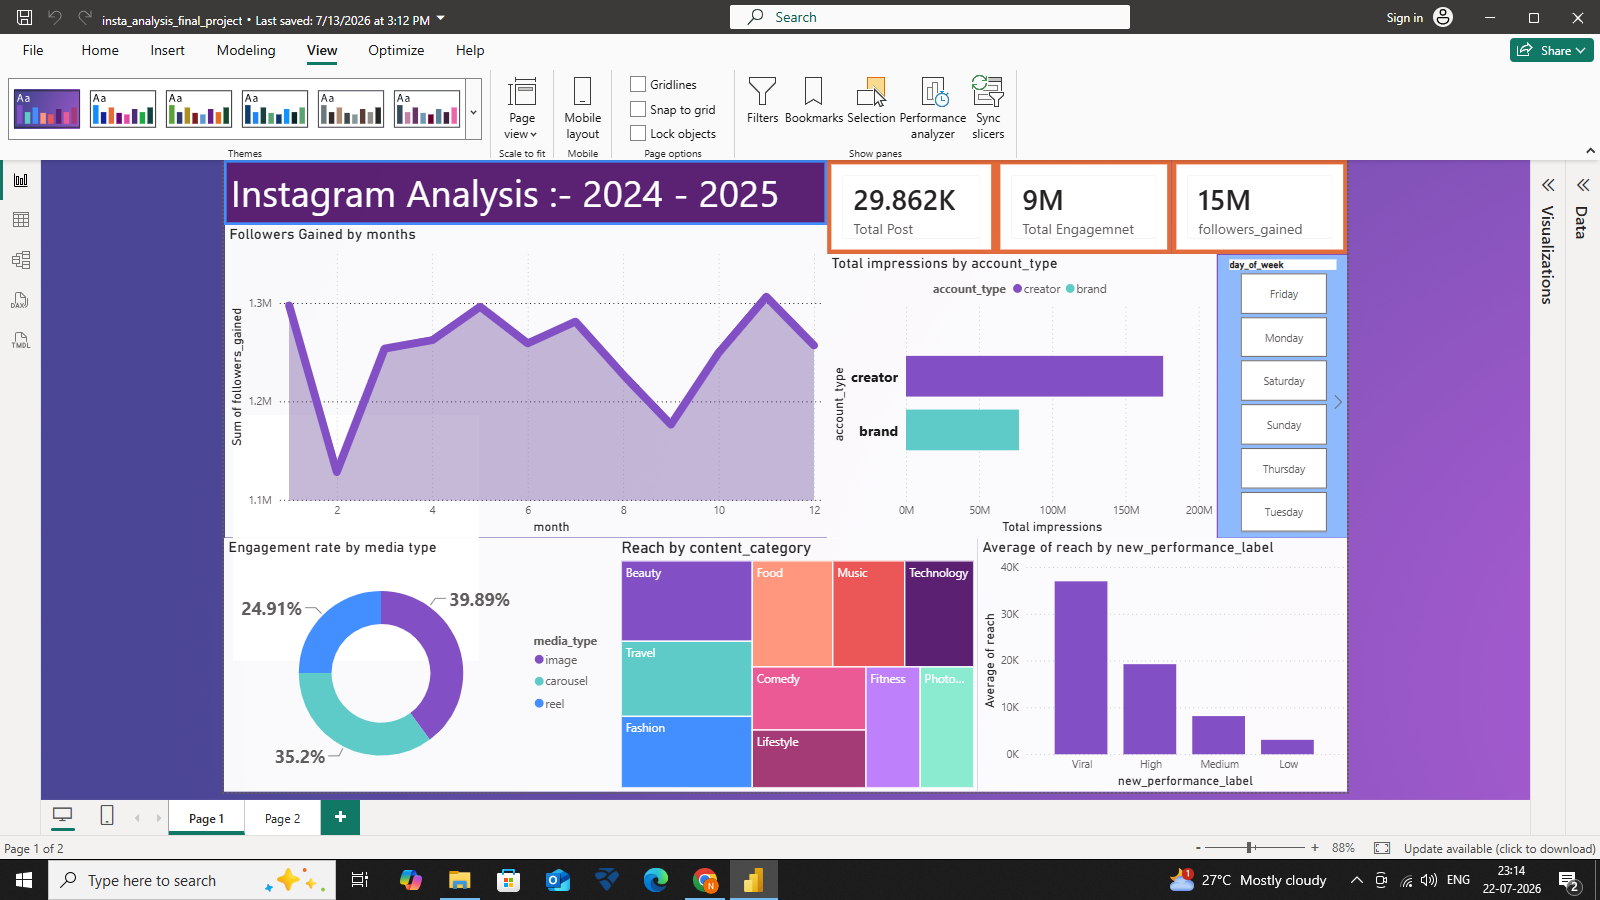

The page's visual inventory and layout, read from the dashboard file:
{"tool":"powerbi","page":{"name":"Page 1","canvas":[1280,720],"ordinal":0},"visuals":[{"type":"textbox","box":[0,0,687.3,74.4],"z":0},{"type":"textbox","box":[10,290,280,280],"z":1000},{"type":"cardVisual","fields":{"Data":["CountNonNull(insta_analysis_cleaned_data.post_id)"]},"box":[686.5,0,192.6,107.3],"z":2000},{"type":"cardVisual","fields":{"Data":["Sum(insta_analysis_cleaned_data.New Total Engagemnet)"]},"box":[879.2,0,200.4,107.3],"z":3000},{"type":"cardVisual","fields":{"Data":["Sum(insta_analysis_cleaned_data_monthly_gained follower.followers)"]},"box":[1079.6,0,200.4,107.3],"z":4000},{"type":"stackedAreaChart","title":" Followers Gained by months","fields":{"Category":["insta_analysis_cleaned_data_monthly_gained follower.months"],"Y":["Sum(insta_analysis_cleaned_data.followers_gained)"]},"box":[1.3,74.1,686.1,356.1],"z":5000},{"type":"barChart","title":"Total impressions by account_type","fields":{"Category":["insta_analysis_cleaned_data.account_type"],"Y":["Sum(insta_analysis_cleaned_data.impressions)"],"Series":["insta_analysis_cleaned_data.account_type"]},"box":[687.4,106.6,444.4,323.6],"z":6000},{"type":"donutChart","title":"Engagement rate by media type ","fields":{"Category":["insta_analysis_cleaned_data.media_type"],"Series":["insta_analysis_cleaned_data.media_type"],"Y":["Sum(insta_analysis_cleaned_data.engagement_rate)"]},"box":[0,430.6,447.7,289.4],"z":7000},{"type":"treemap","title":"Reach by content_category","fields":{"Group":["insta_analysis_cleaned_data.content_category"],"Values":["Max(insta_analysis_cleaned_data.reach)"]},"box":[447.7,430.6,411.3,289.4],"z":8000},{"type":"columnChart","fields":{"Category":["insta_analysis_cleaned_data.new_performance_label"],"Y":["Avg(insta_analysis_cleaned_data.reach)"]},"box":[859,430.6,421.5,289.4],"z":8001},{"type":"slicer","fields":{"Values":["insta_analysis_cleaned_data.day_of_week"]},"box":[1131.9,107.9,148.1,322.3],"z":8002}]}

Visuals, with their boxes on the page's 1280x720 design canvas (x1, y1, x2, y2). These are canvas units, not pixel positions in the 1600x900 screenshot, which may show the page scaled, cropped or inside an application window:
textbox: BBox(0, 0, 687, 74)
textbox: BBox(10, 290, 290, 570)
cardVisual - CountNonNull(insta_analysis_cleaned_data.post_id): BBox(686, 0, 879, 107)
cardVisual - Sum(insta_analysis_cleaned_data.New Total Engagemnet): BBox(879, 0, 1080, 107)
cardVisual - Sum(insta_analysis_cleaned_data_monthly_gained follower.followers): BBox(1080, 0, 1280, 107)
" Followers Gained by months" stackedAreaChart: BBox(1, 74, 687, 430)
"Total impressions by account_type" barChart: BBox(687, 107, 1132, 430)
"Engagement rate by media type " donutChart: BBox(0, 431, 448, 720)
"Reach by content_category" treemap: BBox(448, 431, 859, 720)
columnChart - insta_analysis_cleaned_data.new_performance_label x Avg(insta_analysis_cleaned_data.reach): BBox(859, 431, 1280, 720)
slicer - insta_analysis_cleaned_data.day_of_week: BBox(1132, 108, 1280, 430)
